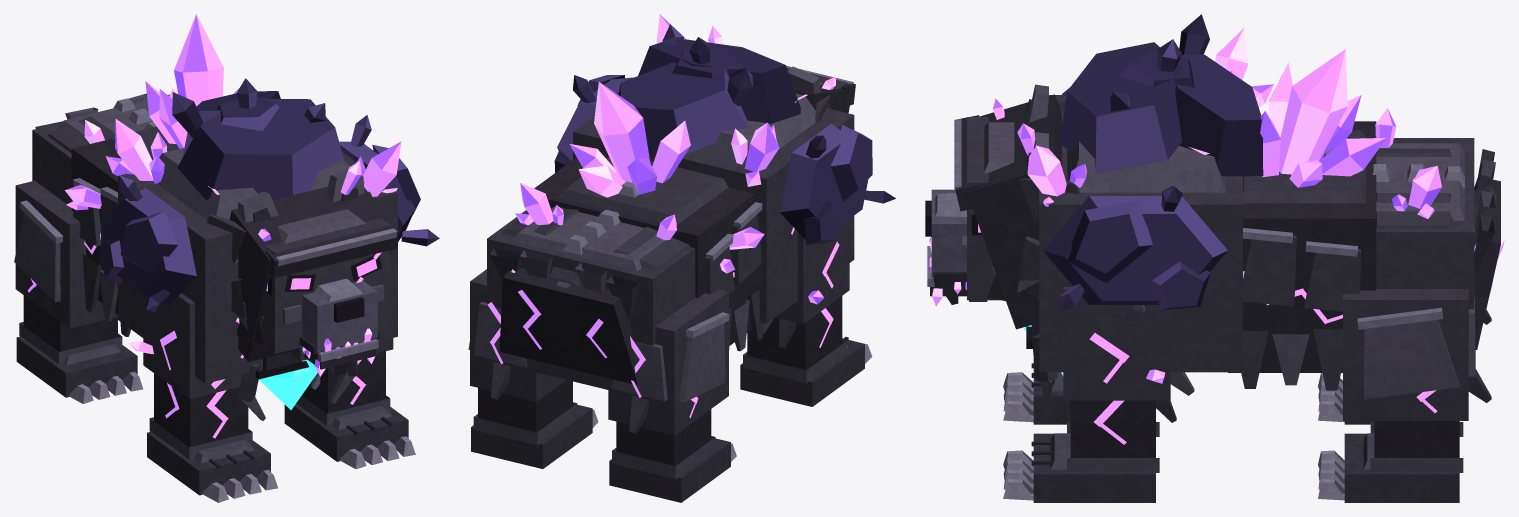
Rendered from fmob_shard_bear.glb.
3 views of the same model, side by side, from view 1: azimuth 30°, elevation 25°; view 2: azimuth 150°, elevation 25°; view 3: azimuth 270°, elevation 25° (orthographic). The views are drawn at different scales.
Visible parts, largest first — view 1: fmob_shard_bear, head, leg_br, leg_fr, armor_back, glow_shards, leg_fl, armor_r, armor_l, jaw, weak_core, glow_eyes; view 2: fmob_shard_bear, leg_br, armor_back, leg_fr, leg_bl, glow_shards, armor_r, armor_l, head, glow_cracks; view 3: fmob_shard_bear, leg_bl, leg_fl, armor_back, armor_l, glow_shards, head, leg_fr, leg_br, jaw.
Boxes of the visible parts, bbox=[...] form: fmob_shard_bear: bbox=[32, 93, 397, 420]; head: bbox=[235, 174, 399, 376]; leg_br: bbox=[14, 180, 143, 403]; leg_fr: bbox=[128, 293, 277, 502]; armor_back: bbox=[172, 78, 343, 199]; glow_shards: bbox=[65, 14, 401, 210]; leg_fl: bbox=[284, 338, 415, 469]; armor_r: bbox=[99, 175, 196, 312]; armor_l: bbox=[339, 115, 439, 246]; jaw: bbox=[292, 328, 378, 375]; weak_core: bbox=[259, 359, 317, 409]; glow_eyes: bbox=[258, 161, 381, 291]; fmob_shard_bear: bbox=[487, 85, 854, 400]; leg_br: bbox=[608, 289, 736, 502]; armor_back: bbox=[618, 24, 800, 154]; leg_fr: bbox=[740, 219, 872, 406]; leg_bl: bbox=[468, 269, 598, 468]; glow_shards: bbox=[511, 14, 779, 273]; armor_r: bbox=[780, 123, 895, 244]; armor_l: bbox=[554, 75, 633, 172]; head: bbox=[786, 65, 855, 105]; glow_cracks: bbox=[518, 94, 807, 358]; fmob_shard_bear: bbox=[967, 94, 1500, 401]; leg_bl: bbox=[1318, 289, 1491, 502]; leg_fl: bbox=[1003, 287, 1194, 502]; armor_back: bbox=[1059, 14, 1263, 176]; armor_l: bbox=[1043, 186, 1227, 309]; glow_shards: bbox=[1027, 27, 1476, 251]; head: bbox=[925, 84, 1048, 307]; leg_fr: bbox=[1003, 359, 1070, 424]; leg_br: bbox=[1318, 228, 1491, 424]; jaw: bbox=[927, 236, 987, 304].
Size of the model in its own units: 2.14 by 2.44 by 3.13.
20 materials, 7 textured.
